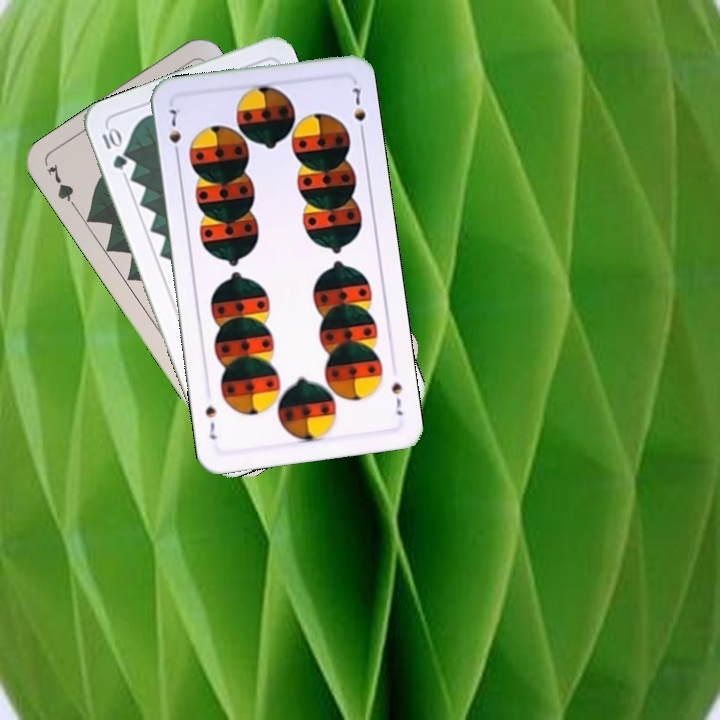G10: (98, 124, 130, 172)
G7: (43, 160, 82, 215)
S7: (165, 102, 184, 161), (387, 379, 406, 418)
